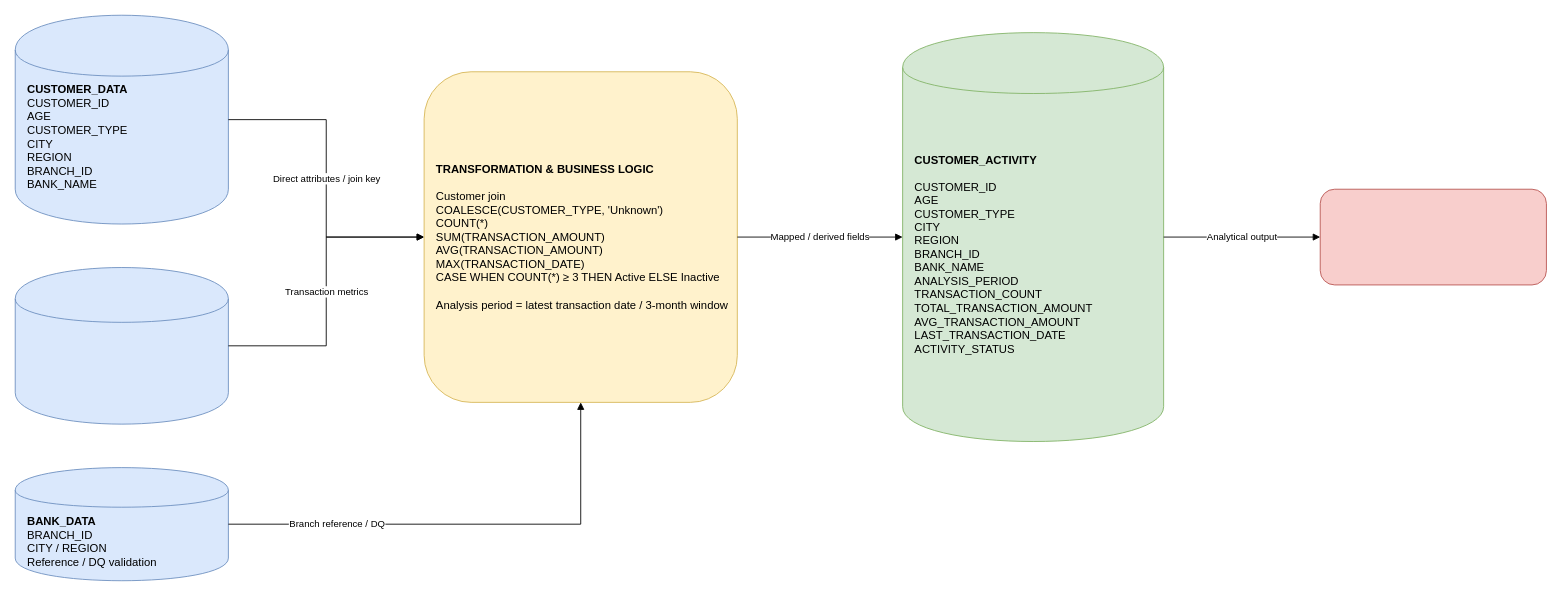
Image size: 1562x596. Some labels were removed from this diagram. The shapes that lost their labels are listed below. From the top down, each one's box as (x1, y1, x2, y2) in pixels, then its label:
(1319, 188, 1546, 285): POWER BI / ANALYSIS Customer-level reporting and further analysis
(14, 267, 228, 424): TRANSACTION_DATA CUSTOMER_ID TRANSACTION_AMOUNT TRANSACTION_DATE TRANSACTION_ID
